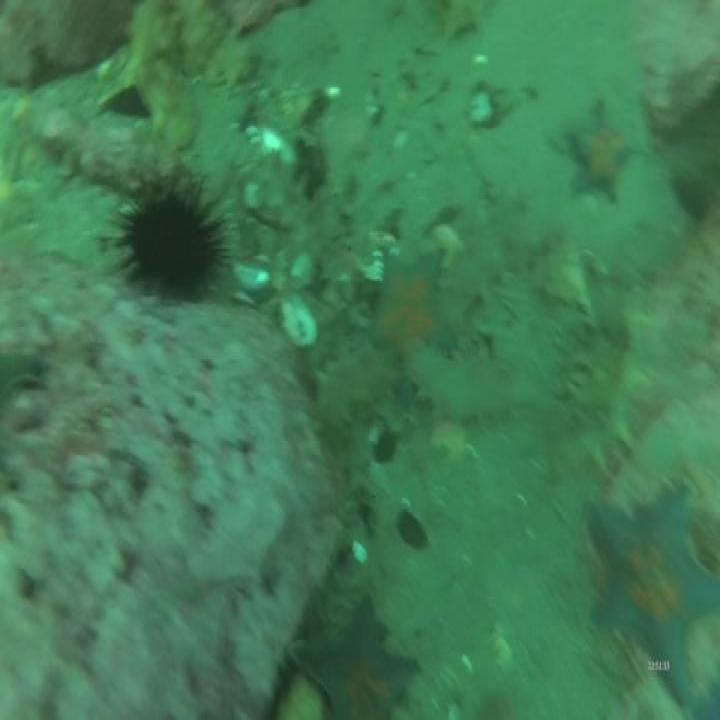echinus: (120, 196, 216, 294)
holothurian: (566, 304, 654, 492), (440, 215, 549, 322), (396, 350, 530, 418), (311, 348, 397, 412)
starfish: (583, 487, 718, 704), (290, 608, 415, 720), (374, 258, 451, 361), (567, 105, 636, 204)
